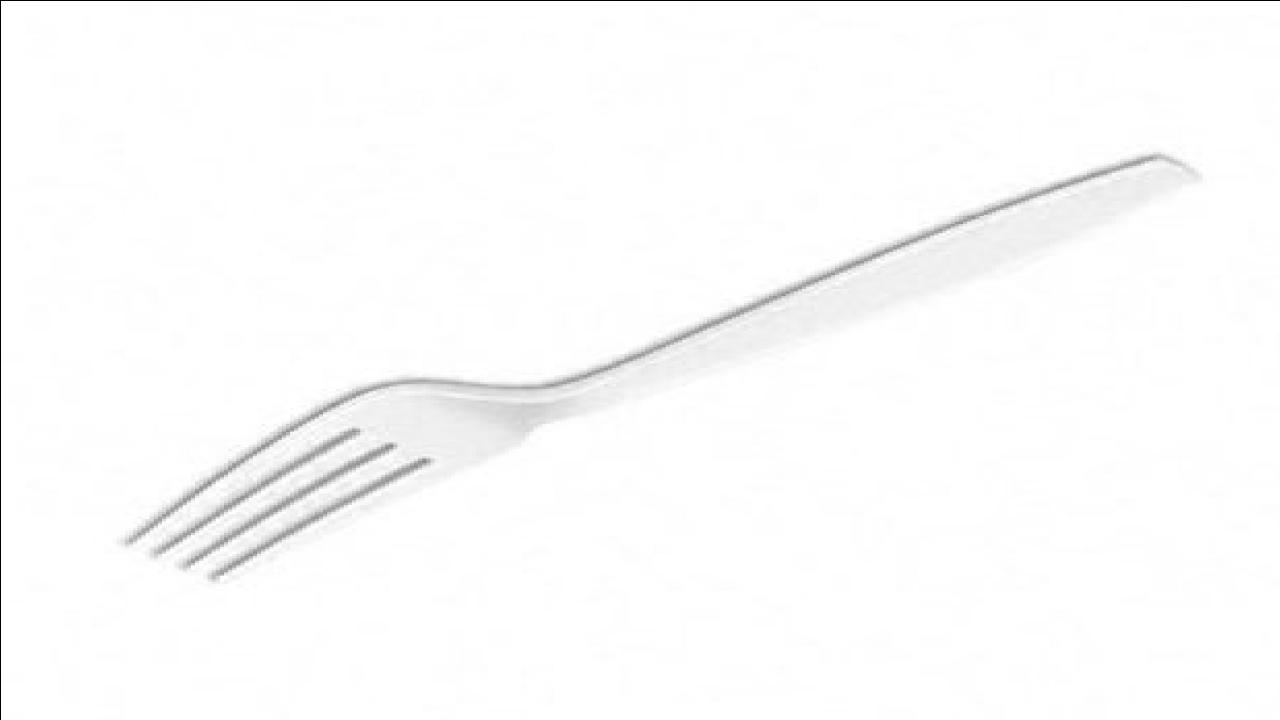fork: (120, 153, 1206, 585)
